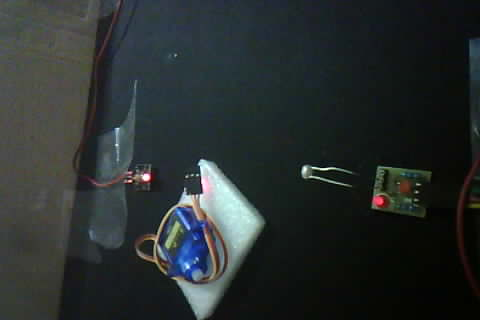motor: (133, 149, 250, 302)
